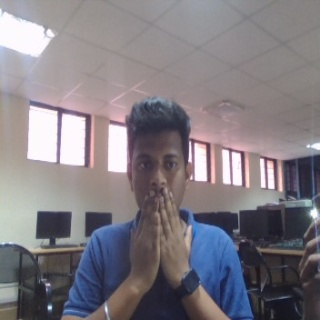Thank You: (126, 186, 198, 293)
